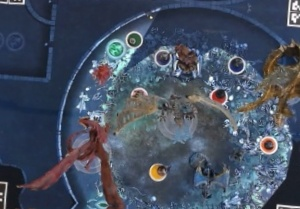blue: (224, 54, 249, 76)
green: (125, 27, 145, 50)
orange: (256, 133, 281, 157)
pink: (127, 84, 151, 105)
red: (209, 84, 232, 108)
violet: (152, 43, 175, 68)
yellow: (146, 158, 171, 182)
